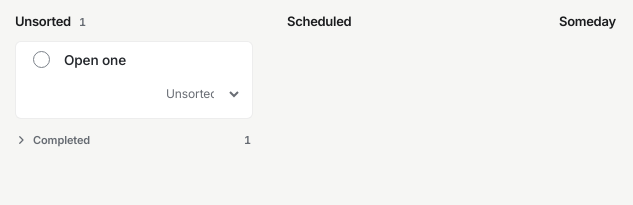
Test case: a Board column's finished work › is collapsed to a count, and the cards are not in the DOM until asked for
expect the text "Done one" is not shown: met
Click the button "Completed 1" at [134, 140], box top-left (15, 130), bottom-right (253, 150)
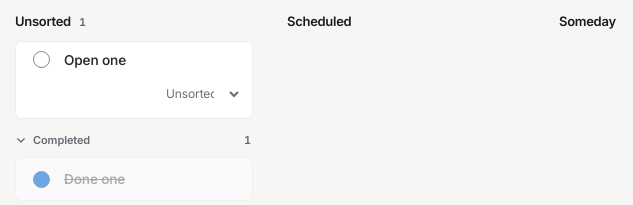
expect the text "Done one" is shown: met, box top-left (64, 171), bottom-right (125, 187)
